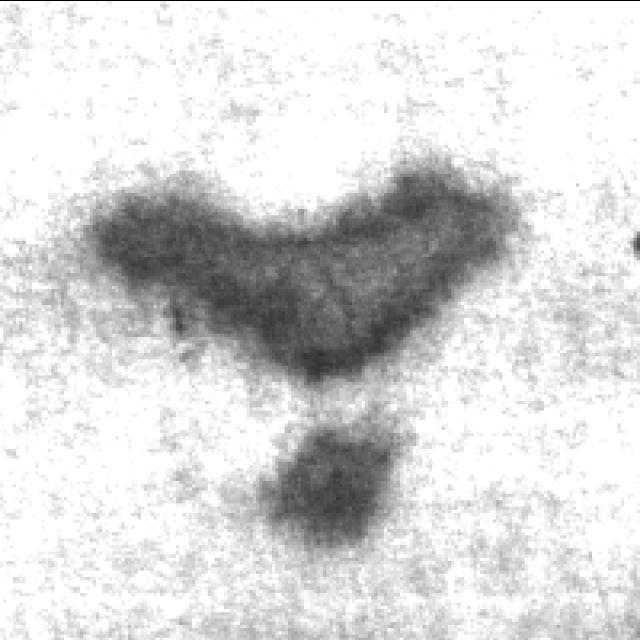patches: (88, 153, 524, 383), (252, 421, 412, 556)
